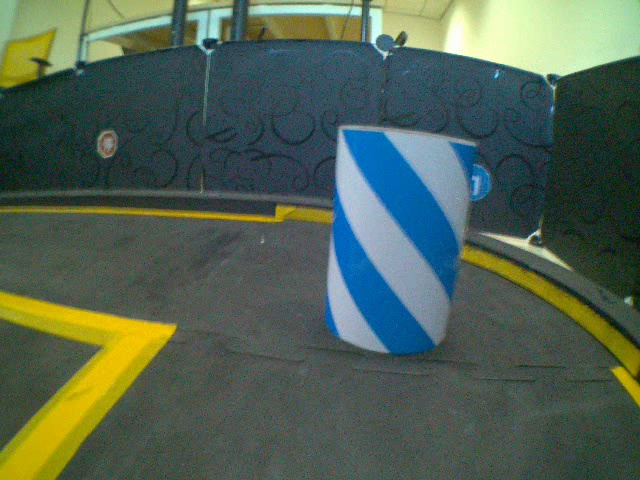bucket: (323, 122, 486, 358)
